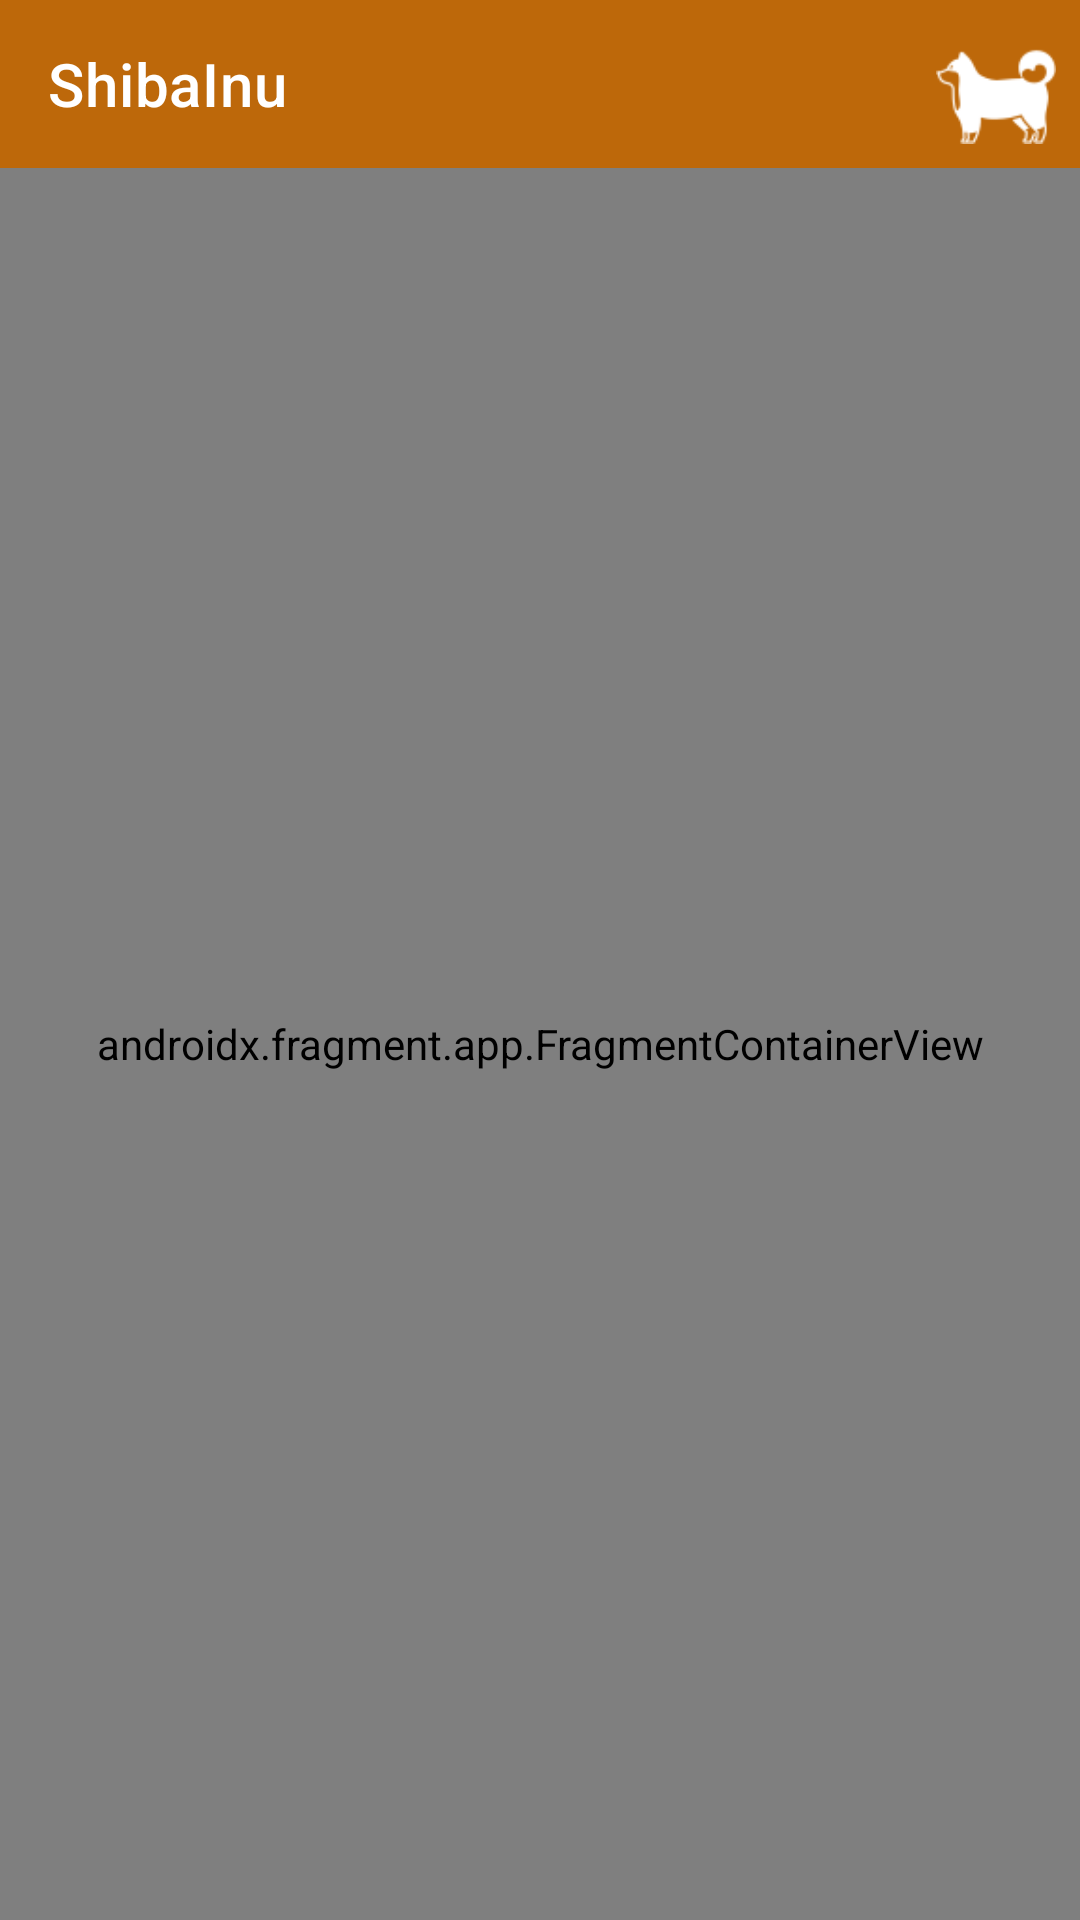

Named icons in this screenshot (1080px x 1920px) and their centers, (x=x, y=y):
shibaplaceholder: (x=996, y=97)
